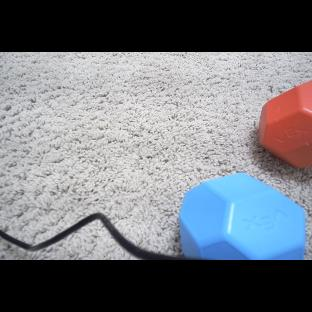V5_BLUE: (176, 172, 305, 260)
V5_RED: (255, 80, 312, 171)
